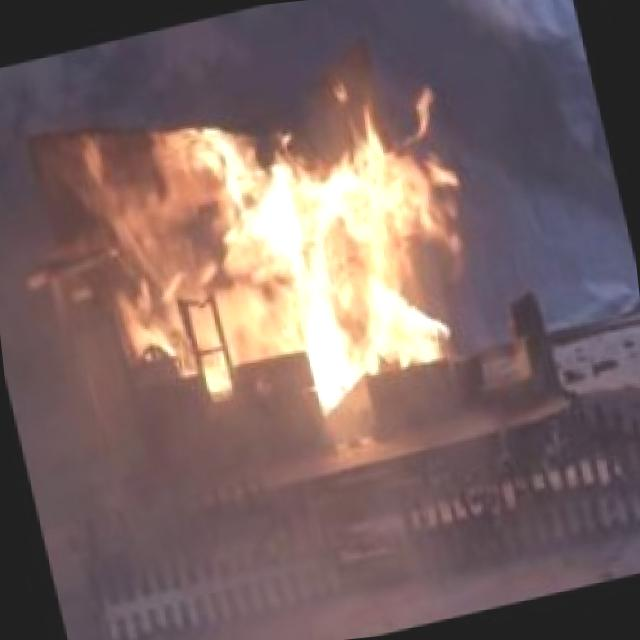fire: (54, 54, 500, 436)
